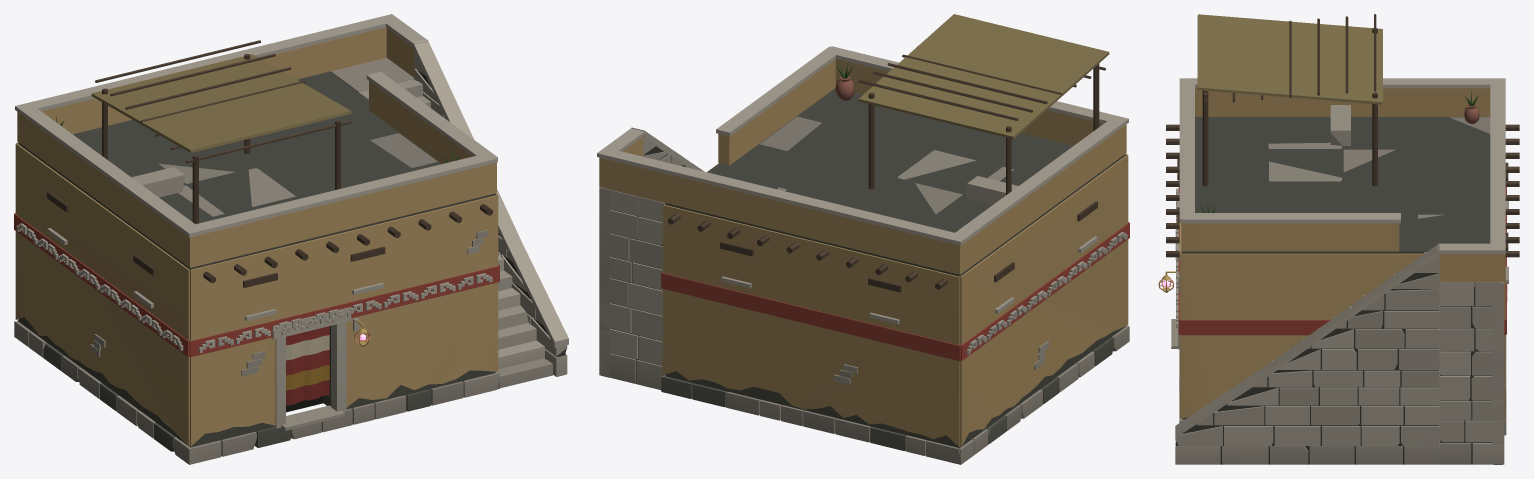
The model's file is zr_house_c.glb.
3 views of the same model, side by side, from view 1: azimuth 30°, elevation 25°; view 2: azimuth 150°, elevation 25°; view 3: azimuth 270°, elevation 25° (orthographic). The views are drawn at different scales.
Visible parts, largest first — view 1: zr_house_c; view 2: zr_house_c; view 3: zr_house_c.
Boxes of the visible parts, x1=… form: zr_house_c: x1=14, y1=14, x2=568, y2=464; zr_house_c: x1=597, y1=14, x2=1129, y2=464; zr_house_c: x1=1158, y1=14, x2=1519, y2=464.
Size of what is drawn, in the model's own units: 10.17 by 7.8 by 8.95.
